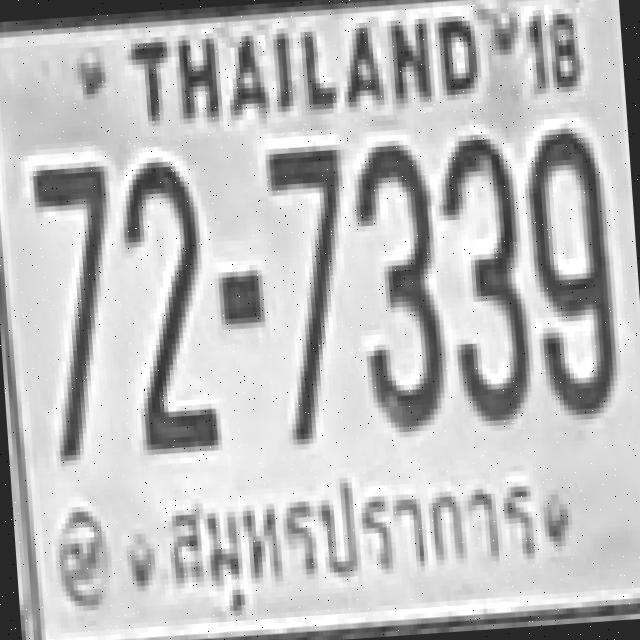2: (117, 154, 210, 420), (124, 192, 215, 448)
3: (347, 138, 446, 429), (434, 130, 529, 426)
7: (262, 138, 357, 430), (28, 160, 122, 446), (262, 138, 355, 398), (28, 160, 116, 358), (28, 160, 115, 337)
9: (520, 123, 616, 414)
SamutPrakan: (147, 450, 555, 636)
